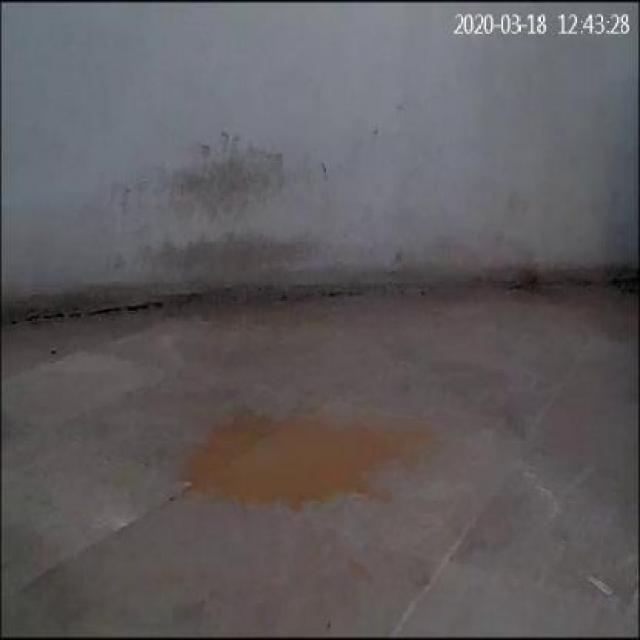spill: (170, 408, 422, 516)
